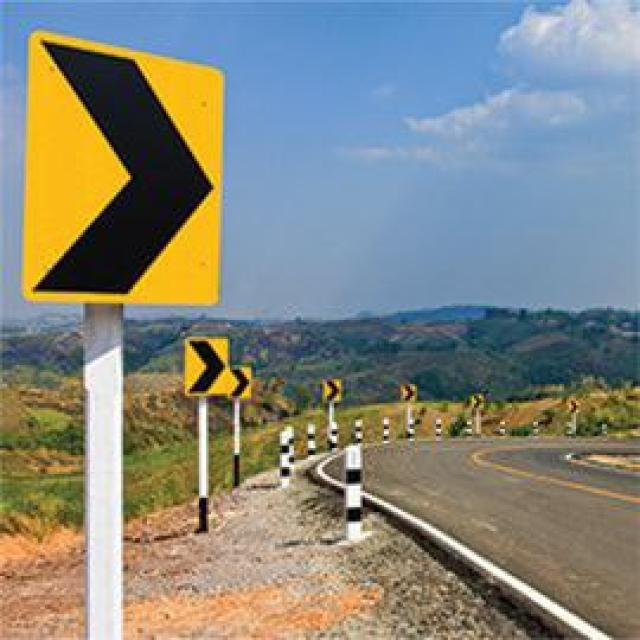chevron_right: (27, 34, 230, 304), (183, 340, 229, 401), (226, 369, 253, 406), (318, 378, 345, 406), (398, 385, 419, 406), (464, 392, 484, 413)
